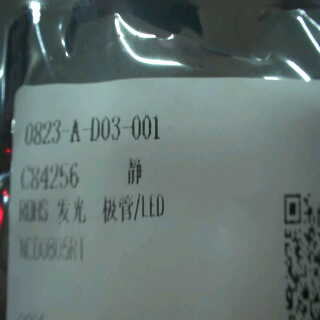LED: (54, 193, 166, 223)
